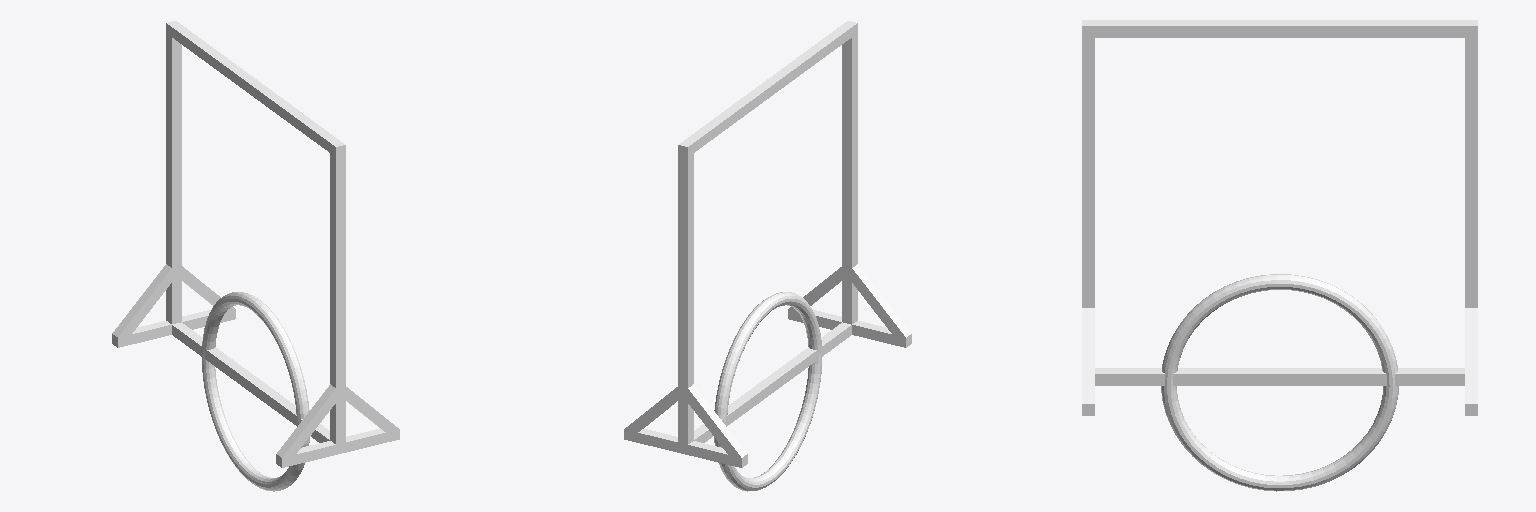
URDF robot description (tire_jump):
<?xml version="1.0" encoding="utf-8"?>
<!-- This URDF was automatically created by SolidWorks to URDF Exporter! Originally created by [author] ([email redacted]) 
     Commit Version: 1.6.0-4-g7f85cfe  Build Version: 1.6.7995.38578
     For more information, please see http://wiki.ros.org/sw_urdf_exporter -->
<robot
  name="tire_jump">
  <link
    name="base_link">
    <inertial>
      <origin
        xyz="0 0 0"
        rpy="0 0 0" />
      <mass
        value="20.639087296526" />
      <inertia
        ixx="15.2439598436287"
        ixy="1.46963604480411E-15"
        ixz="-2.61105283886273E-15"
        iyy="7.11056848834124"
        iyz="1.27438645559805E-14"
        izz="8.4970487848923" />
    </inertial>
    <visual>
      <origin
        xyz="0 0 0"
        rpy="0 0 0" />
      <geometry>
        <mesh
          filename="./meshes/base_link.STL" />
      </geometry>
      <material
        name="">
        <color
          rgba="1 1 1 1" />
      </material>
    </visual>
    <collision>
      <origin
        xyz="0 0 0"
        rpy="1.57 0 0" />
      <geometry>
        <mesh
          filename="./meshes/base_link.STL" />
      </geometry>
    </collision>
  </link>
  <link
    name="link0">
    <inertial>
      <origin
        xyz="0 0 0"
        rpy="0 0 0" />
      <mass
        value="13.038" />
      <inertia
        ixx="2.2536"
        ixy="-2.4074E-33"
        ixz="6.1945E-17"
        iyy="1.1376"
        iyz="-2.7757E-32"
        izz="1.1376" />
    </inertial>
    <visual>
      <origin
        xyz="0 0 0"
        rpy="0 0 0" />
      <geometry>
        <mesh
          filename="./meshes/link0.STL" />
      </geometry>
      <material
        name="">
        <color
          rgba="1 1 1 1" />
      </material>
    </visual>
    <collision>
      <origin
        xyz="0 0 0"
        rpy="1.57 0 0" />
      <geometry>
        <mesh
          filename="./meshes/link0.STL" />
      </geometry>
    </collision>
  </link>
  <joint
    name="joint0"
    type="prismatic">
    <origin
      xyz="0 0 0"
      rpy="0 0 0" />
    <parent
      link="base_link" />
    <child
      link="link0" />
    <axis
      xyz="0 -1 0" />
    <limit effort="1000.0" lower="-4" upper="4" velocity="100"/>
  </joint>
</robot>

--- Render facts (derived) ---
3 views of the same robot in one strip: view 1: azimuth 30°, elevation 25°; view 2: azimuth 150°, elevation 25°; view 3: azimuth 270°, elevation 25° (orthographic).
Robot: tire_jump — 2 links, 1 joints (1 prismatic); root link base_link; default pose: all joints at 0.
Visible links, largest first — view 1: base_link, link0; view 2: base_link, link0; view 3: base_link, link0.
Boxes of the visible links, x1,y1,x2,y2 form: base_link: [112, 21, 399, 467]; link0: [202, 292, 309, 491]; base_link: [624, 21, 911, 467]; link0: [714, 292, 821, 491]; base_link: [1082, 20, 1477, 415]; link0: [1161, 274, 1398, 491].
Bounding box of the posed robot: 0.6 × 1.5 × 1.95 m (x, y, z).
2 mesh visuals loaded from 2 distinct referenced files (2 binary STL).
